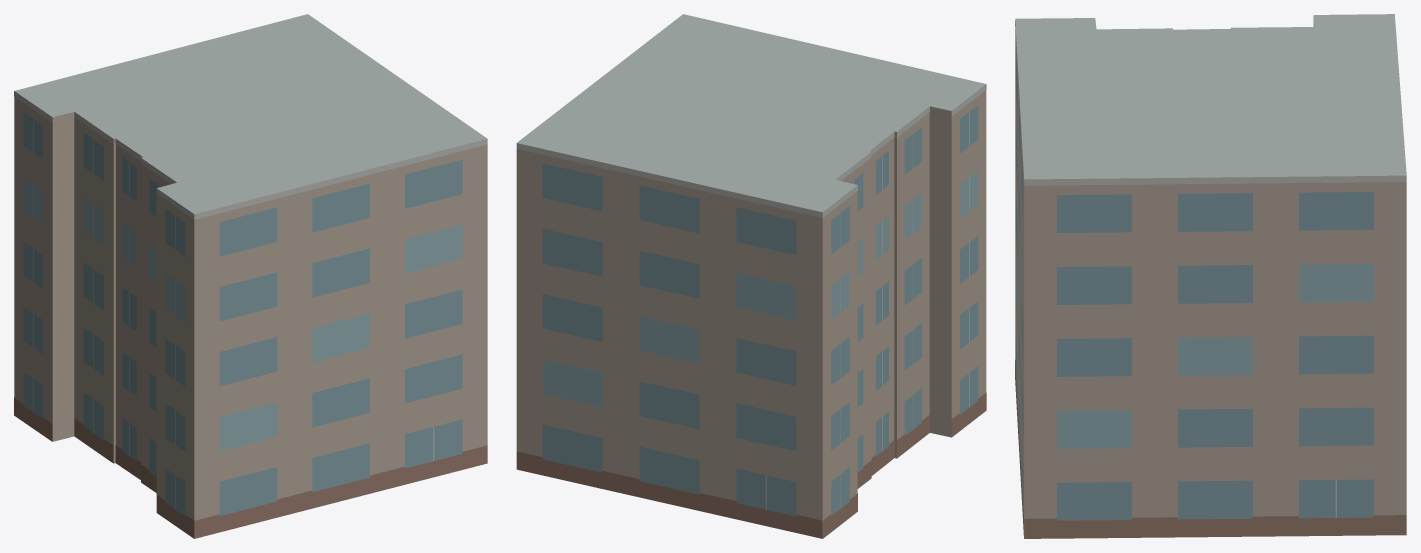
File: survey-upis-32653974.glb
3 views of the same model, side by side, from view 1: azimuth 30°, elevation 25°; view 2: azimuth 150°, elevation 25°; view 3: azimuth 270°, elevation 25° (orthographic). The views are drawn at different scales.
Visible parts, largest first — view 1: survey-upis-32653974.tmp; view 2: survey-upis-32653974.tmp; view 3: survey-upis-32653974.tmp.
Boxes of the visible parts, x1=… form: survey-upis-32653974.tmp: x1=14, y1=14, x2=487, y2=538; survey-upis-32653974.tmp: x1=516, y1=14, x2=986, y2=538; survey-upis-32653974.tmp: x1=1015, y1=14, x2=1406, y2=538.
Bounding box in the file's own units: 13.78 × 13.95 × 13.78.
